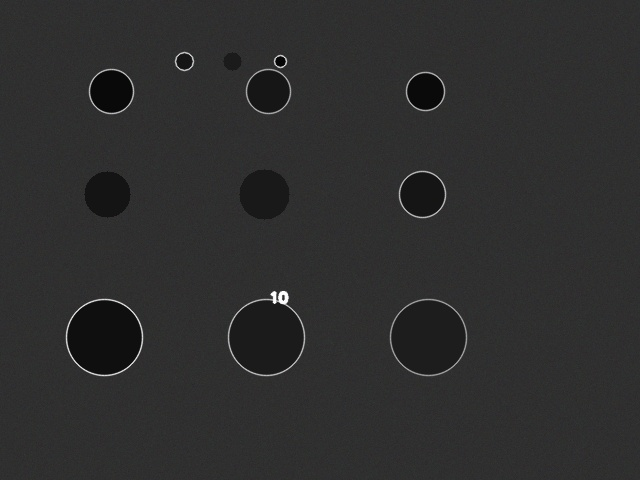hole: (66, 299, 142, 375), (228, 299, 304, 375), (390, 299, 466, 375), (239, 169, 289, 219), (84, 171, 130, 217), (399, 171, 445, 217), (89, 69, 133, 113), (246, 69, 290, 113), (406, 72, 444, 110), (175, 52, 193, 70), (223, 52, 241, 70), (274, 55, 286, 67)
